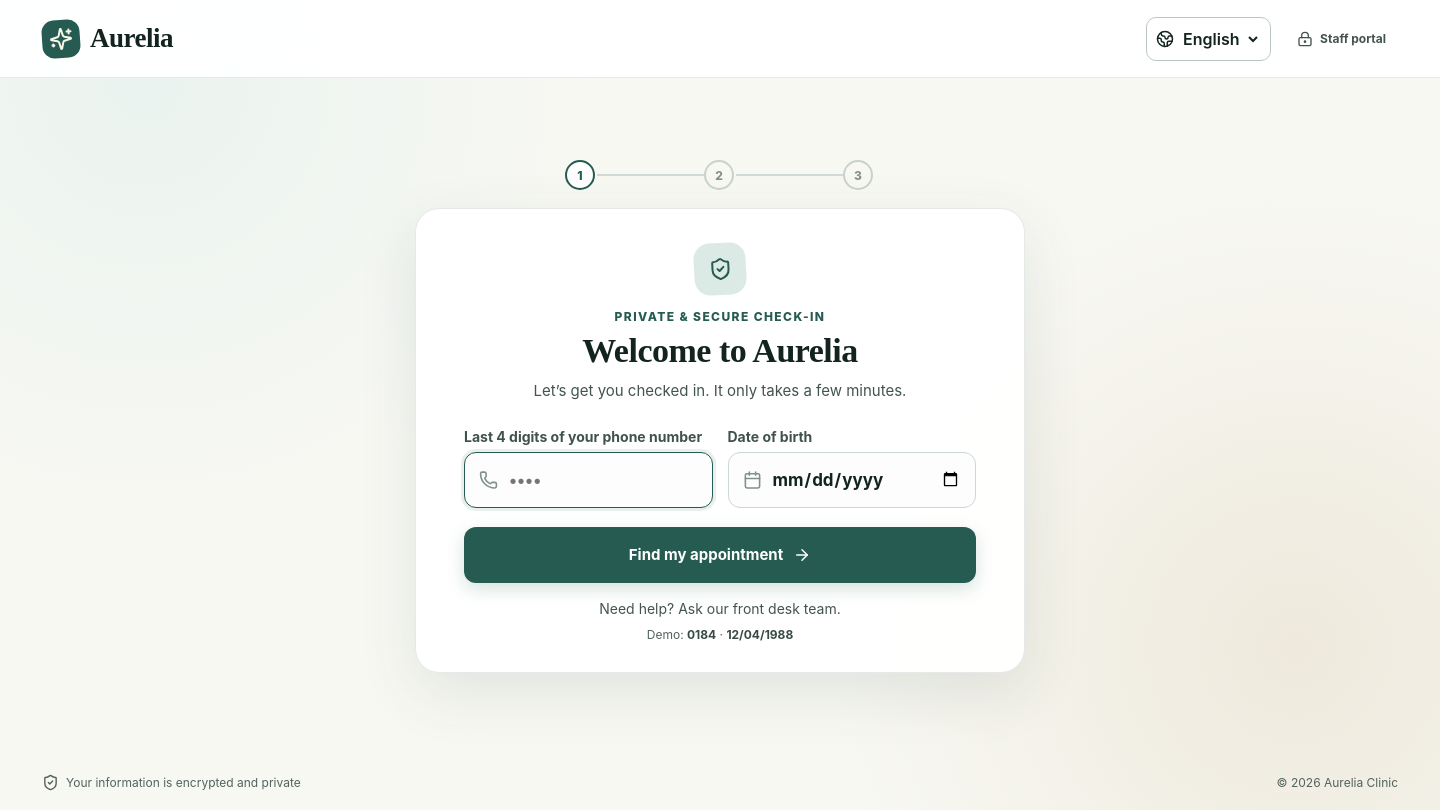
Test: CheckInPage › can reject a matched identity and return to lookup
This screenshot has width=1440, height=810.
Type "0184" into the field labelled "Last 4 digits of your phone number" at (602, 480), box [507,469,698,491]
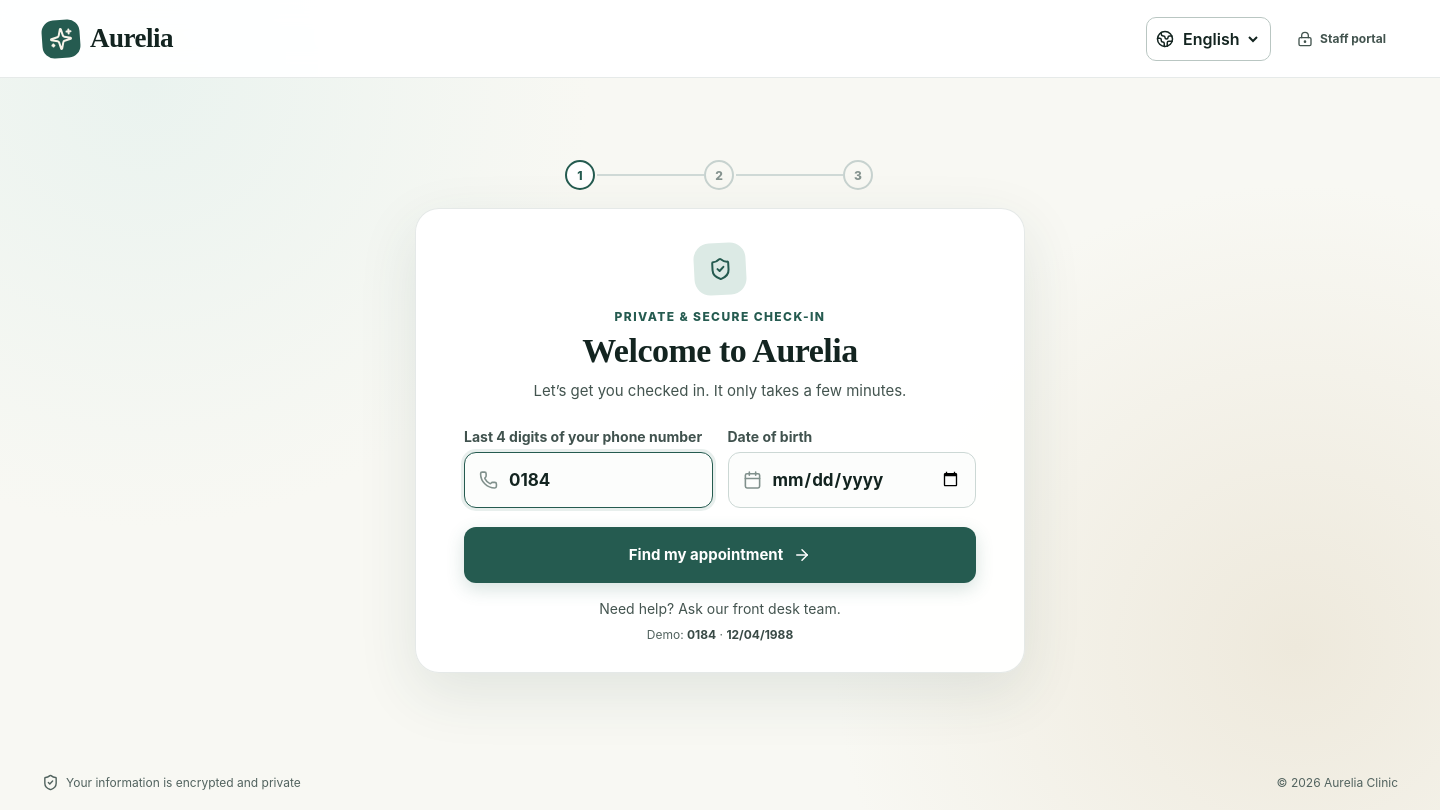
Type "1988-04-12" into the date field labelled "Date of birth" at (866, 480), box [770,469,961,491]
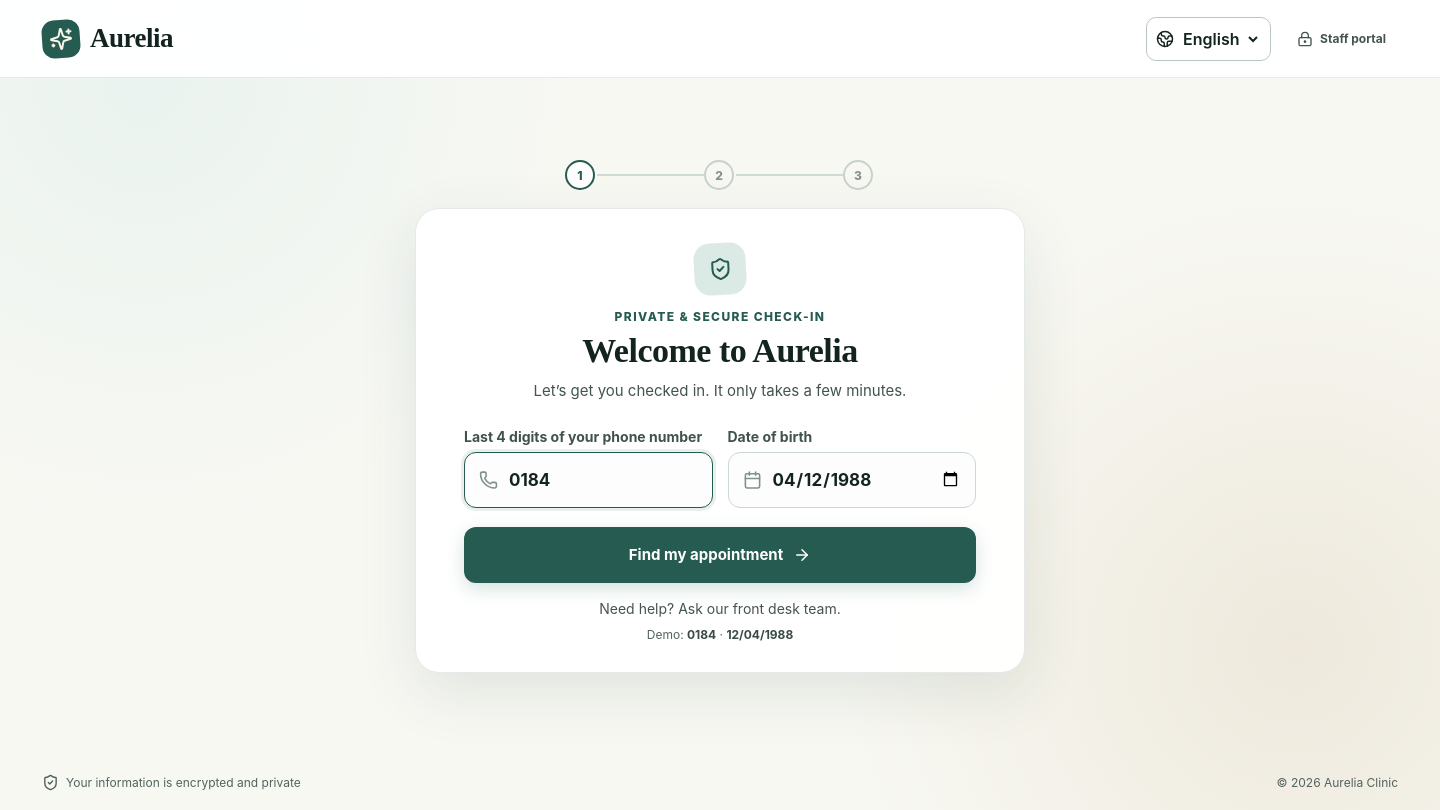
Click the button "Find my appointment" at (720, 555), box [464,527,976,583]
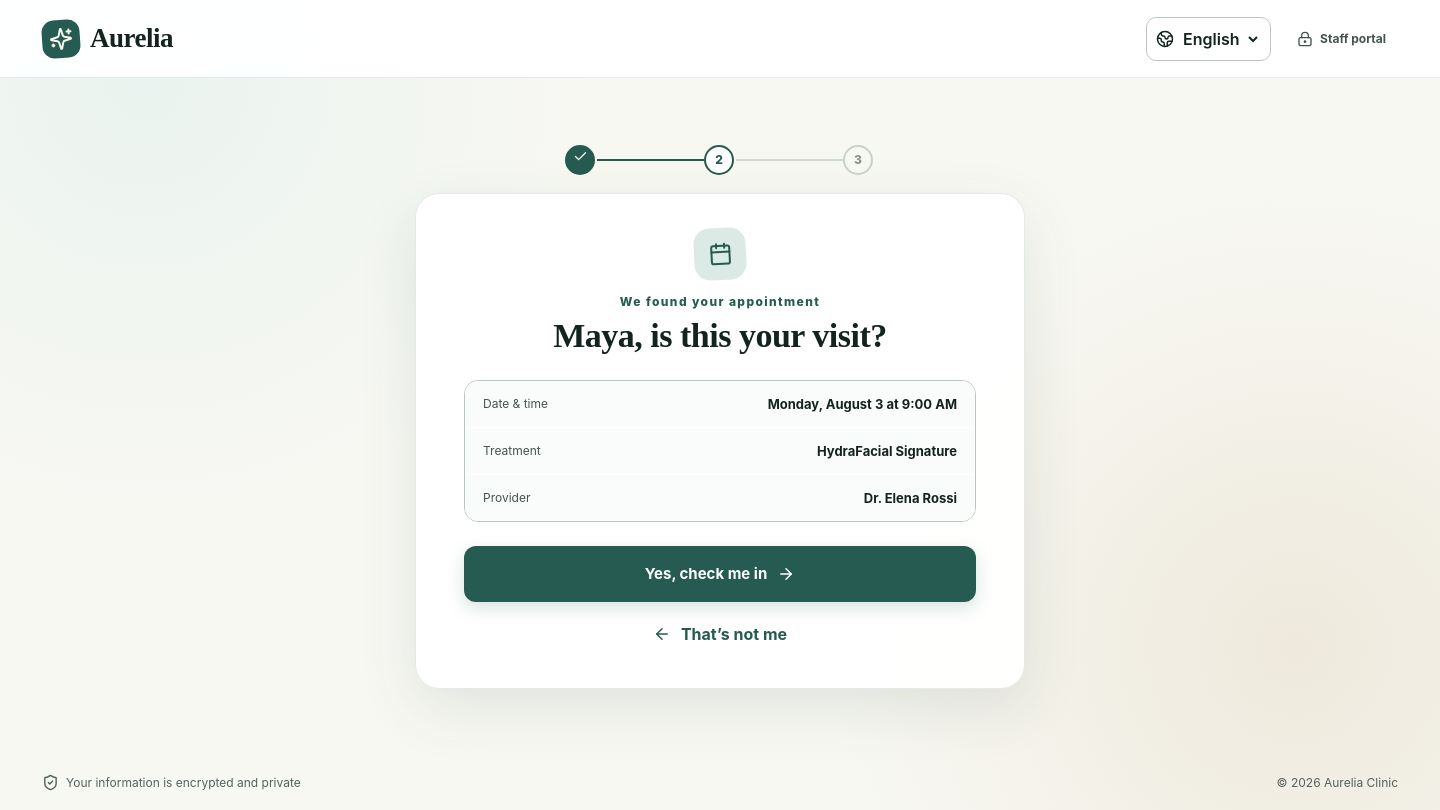
Click the button "That’s not me" at (720, 634), box [464,610,976,658]
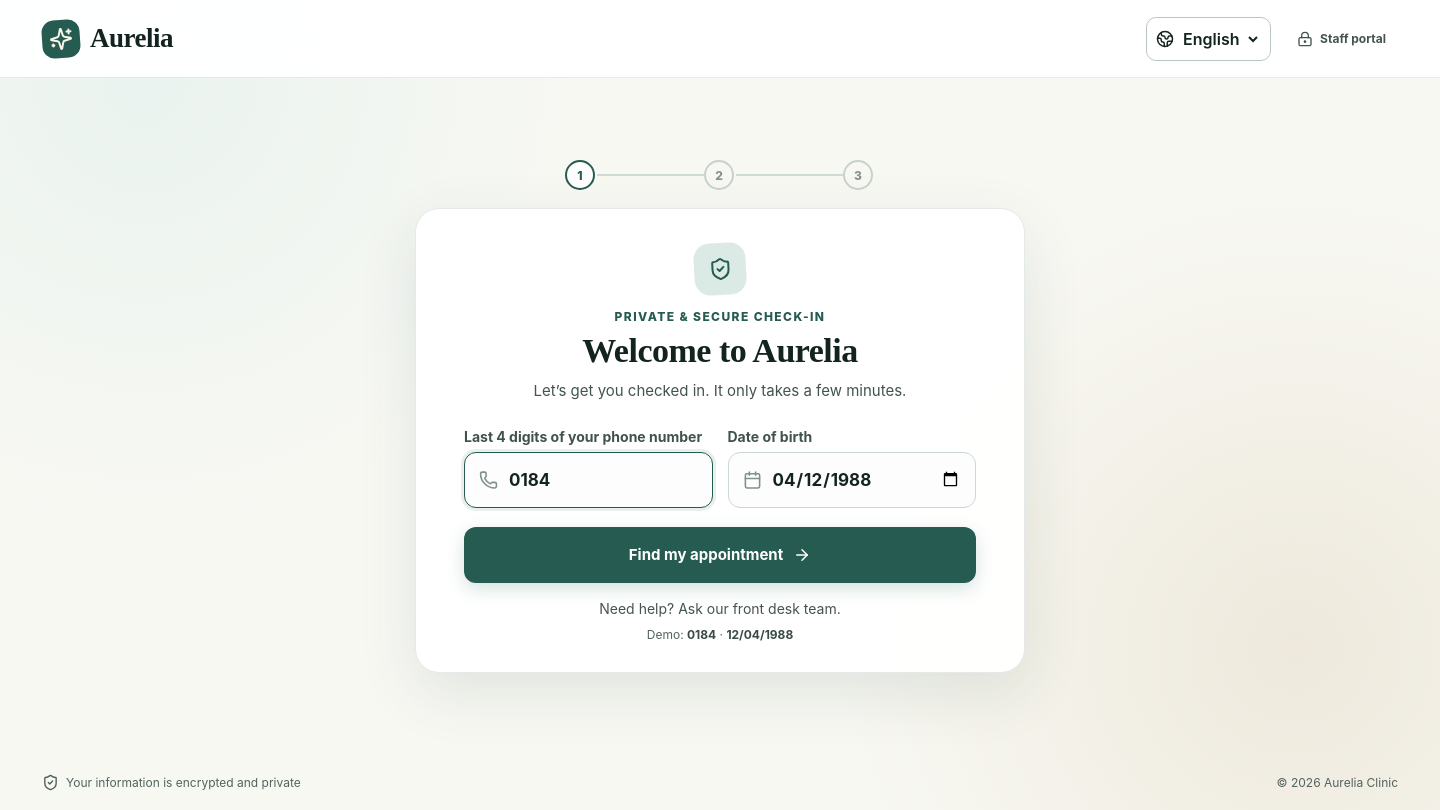
expect the heading "Welcome to Aurelia" is shown: met, box [582,332,858,369]
